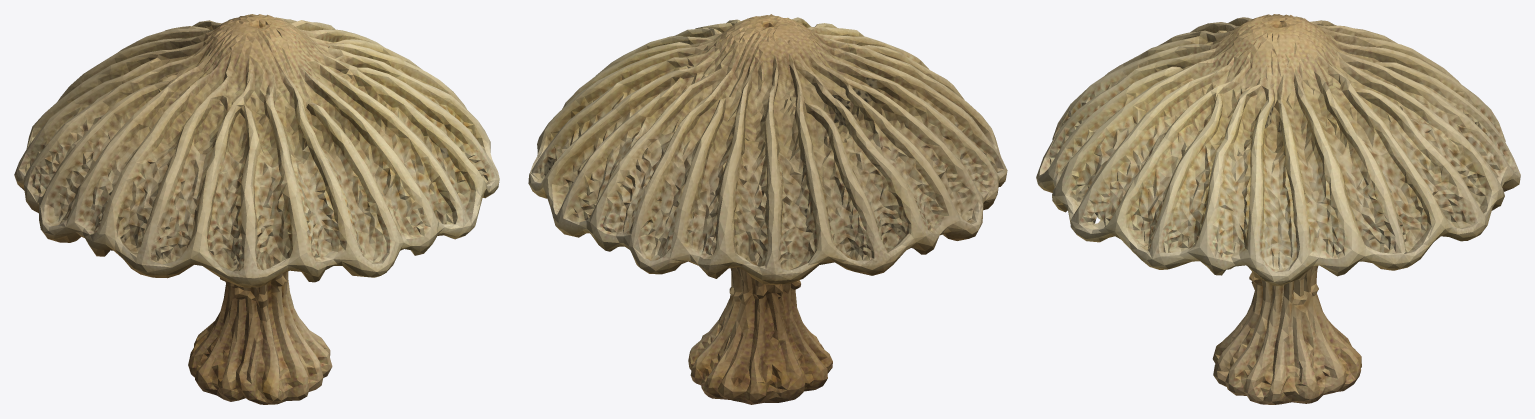
3 views of the same model, side by side, from view 1: azimuth 30°, elevation 25°; view 2: azimuth 150°, elevation 25°; view 3: azimuth 270°, elevation 25° (orthographic).
Parts seen in each view (by area): view 1: world; view 2: world; view 3: world.
Part boxes in pixels (box(x1,y1,x2,y2)): world: box(14, 14, 499, 404); world: box(528, 14, 1007, 404); world: box(1036, 14, 1520, 404).
Size of the model in its own units: 0.9857 by 0.8012 by 0.9845.
2 materials, 2 textured.
